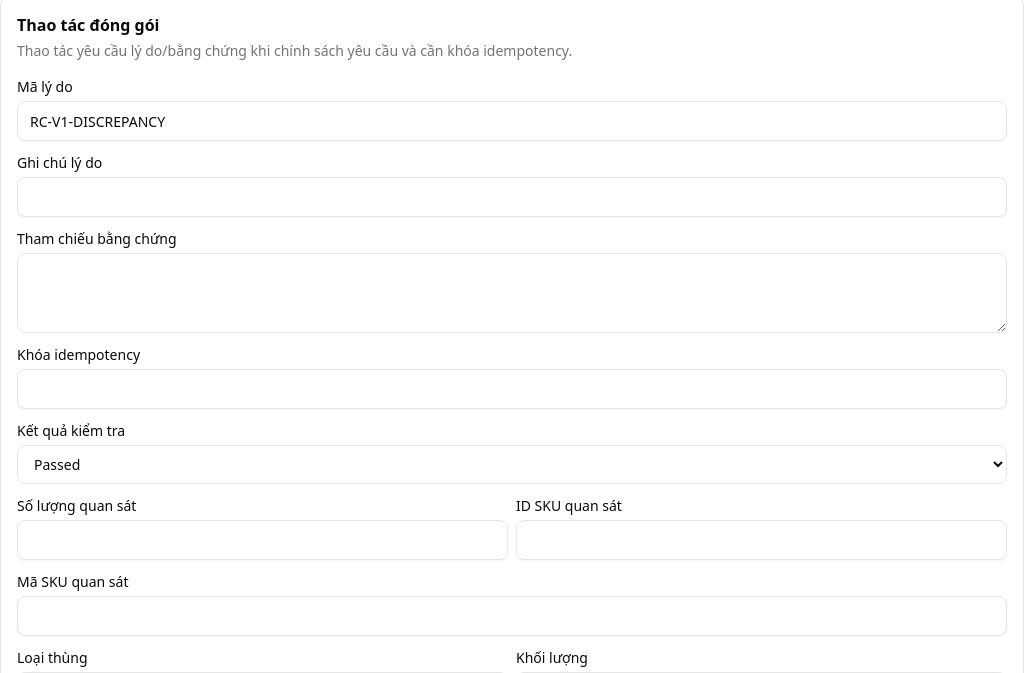
Scenario: Packing list/detail pages › submits ready-for-staging through the action detail route and shows label gate result
(page scrolled)
Type "label:1" into the text box labelled "Tham chiếu bằng chứng" at point(512, 293), box [17,253,1007,333]
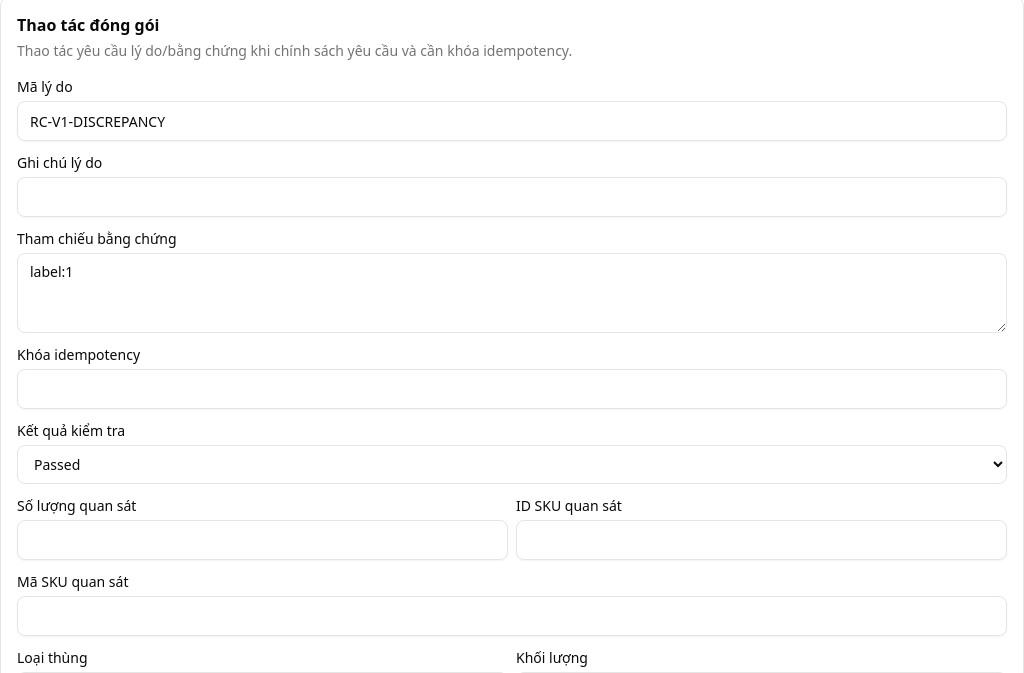
Type "ready-1" into the field labelled "Khóa idempotency" at point(512, 389), box [17,369,1007,409]
(page scrolled)
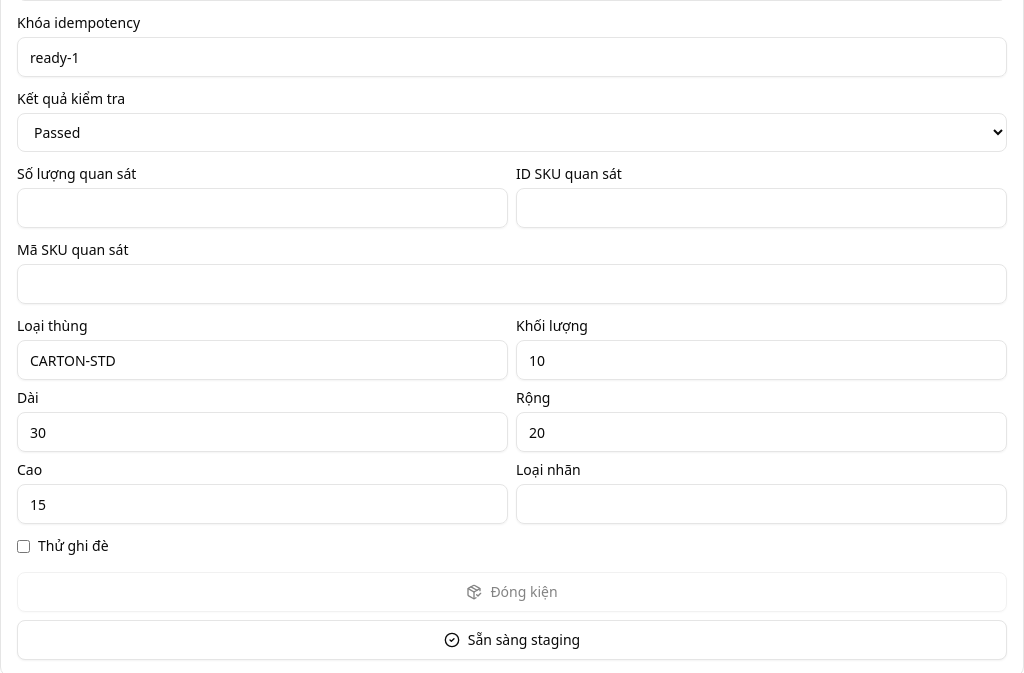
Type "PACKAGE" into the field labelled "Loại nhãn" at point(762, 504), box [516,484,1007,524]
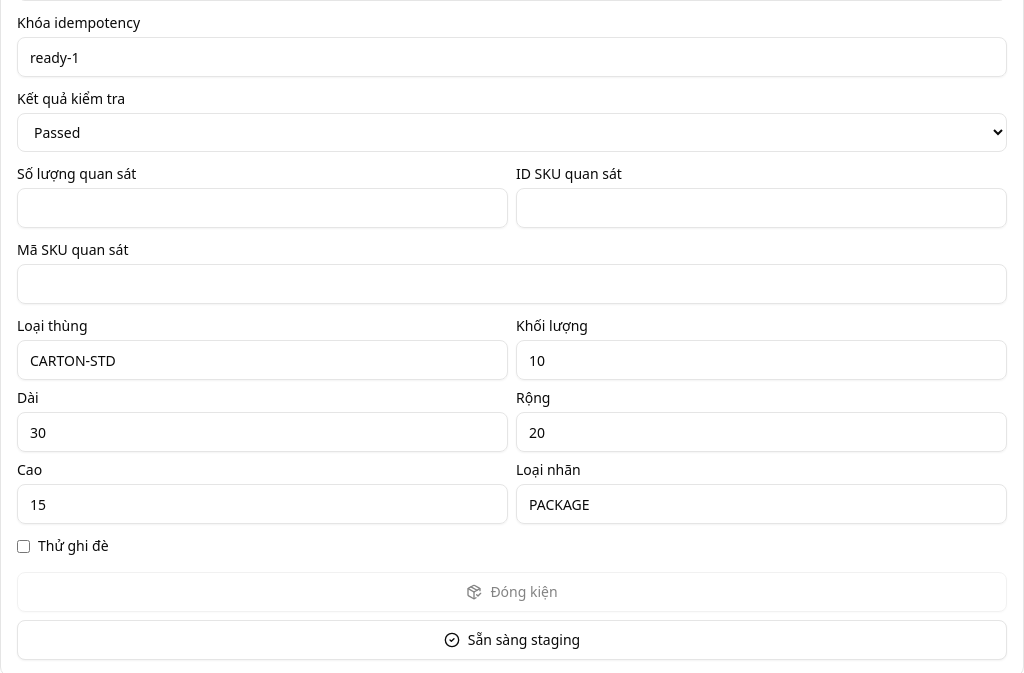
Click the button "Sẵn sàng staging" at point(512, 640), box [17,620,1007,660]
(page scrolled)
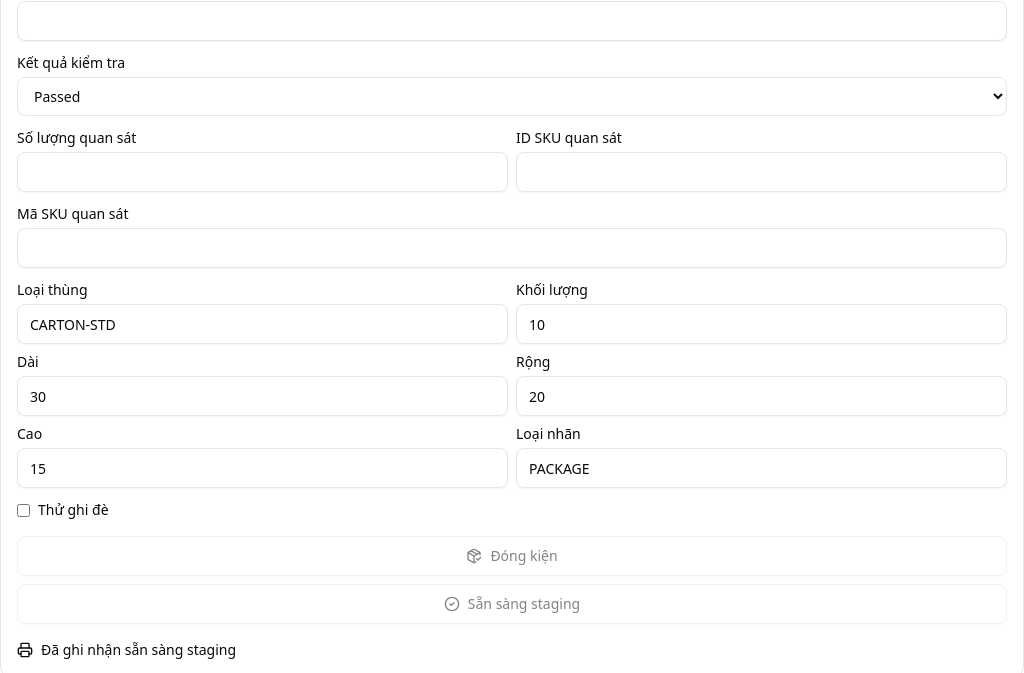
Result: the text "Đã ghi nhận sẵn sàng staging" is shown at [17,640,236,659]
